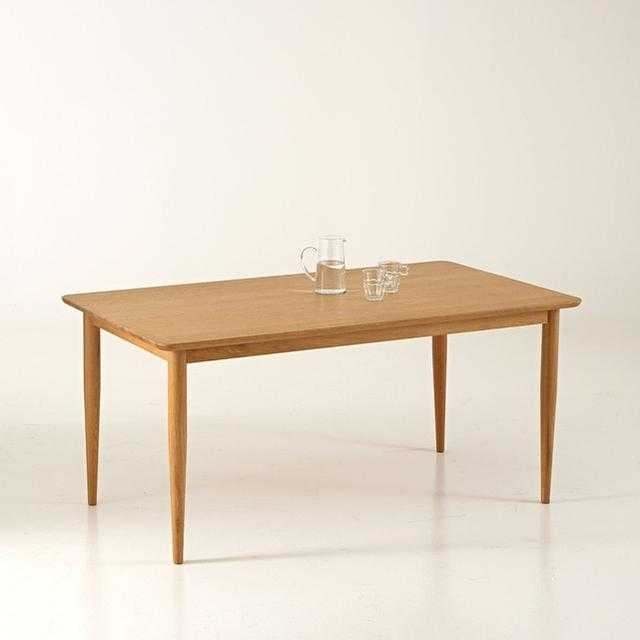obstacle: (63, 261, 580, 563)
